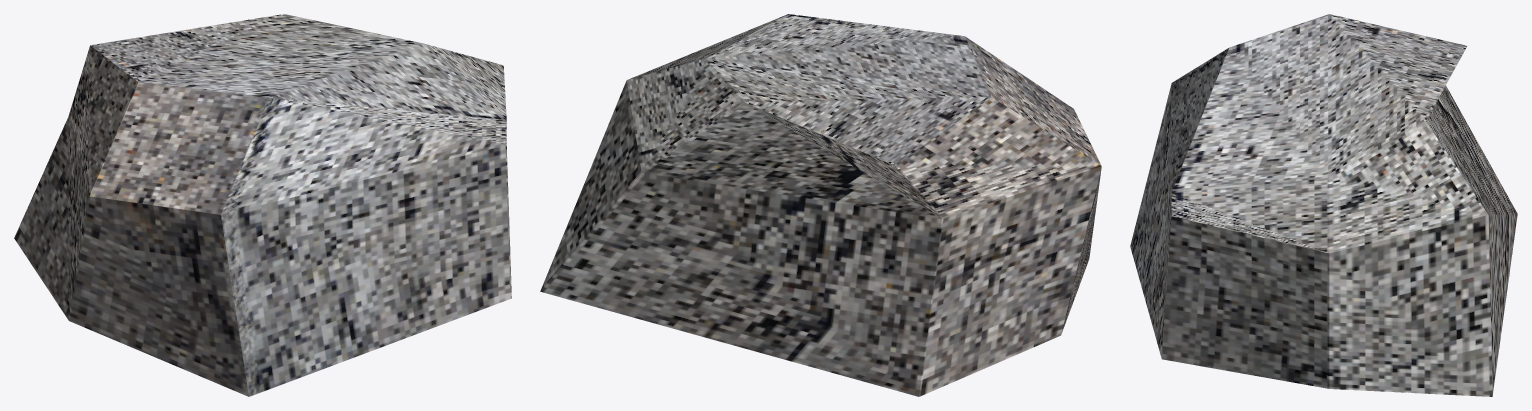
File: Rock2.fbx
3 renders of one model, left to right at view 1: azimuth 30°, elevation 25°; view 2: azimuth 150°, elevation 25°; view 3: azimuth 270°, elevation 25°, orthographic. The views are drawn at different scales.
Parts seen in each view (by area): view 1: Cube; view 2: Cube; view 3: Cube.
Boxes of the visible parts, box(x1,y1,x2,y2) form: Cube: box(14, 14, 511, 396); Cube: box(540, 14, 1101, 396); Cube: box(1130, 14, 1517, 396).
Bounding box in the file's own units: 312 × 163 × 246.
Materials: 1 (1 with a texture image).
